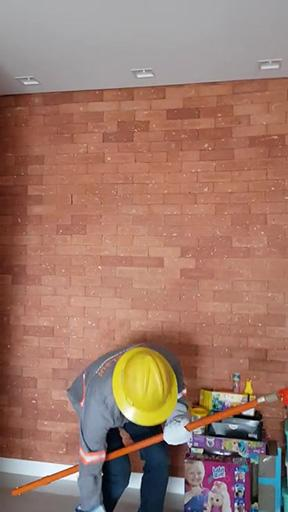Vara_Manobra: (12, 397, 272, 495)
